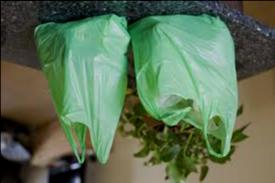Plastic: (30, 15, 131, 172), (129, 15, 239, 159)
